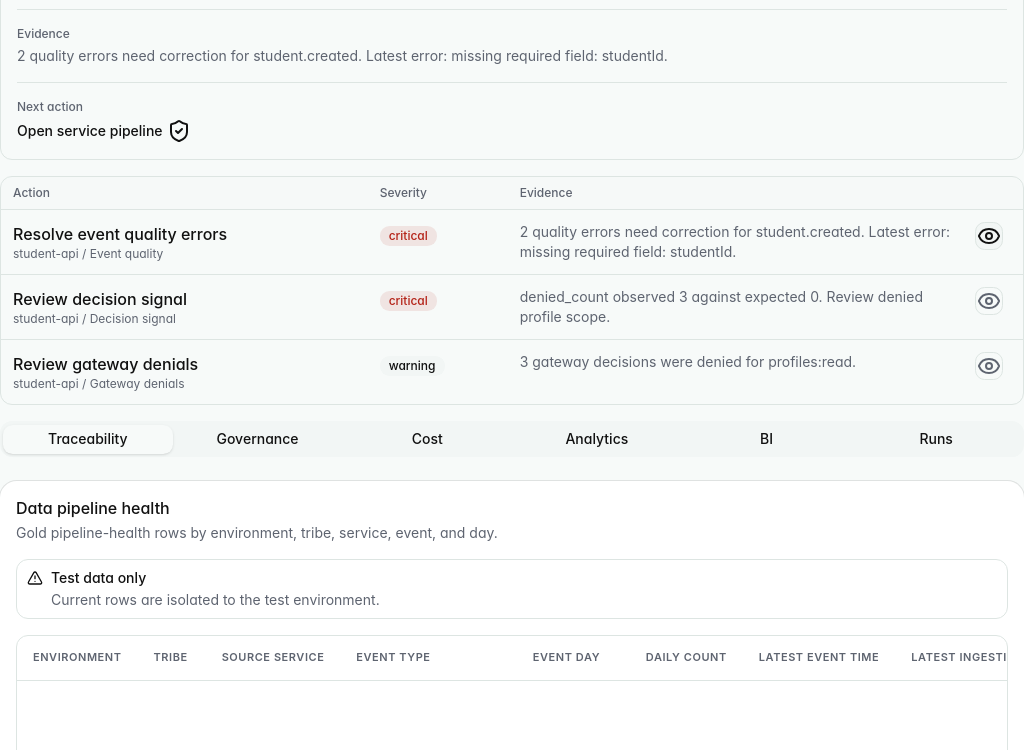
DataPipelineDashboardClient › surfaces severity-first pipeline action detail before the source tabs
The width and height of the screenshot is (1024, 750).
(page scrolled)
Expected: the element named "Selected pipeline action detail" shows "2 quality errors need correction", [17,47,668,64]
Expected: the element named "Selected pipeline action detail" shows "missing required field: studentId", [17,47,668,64]
Step 1. Click the button named "Inspect pipeline action Gateway denials" → (989, 366), box [975,352,1003,380]
(page scrolled)
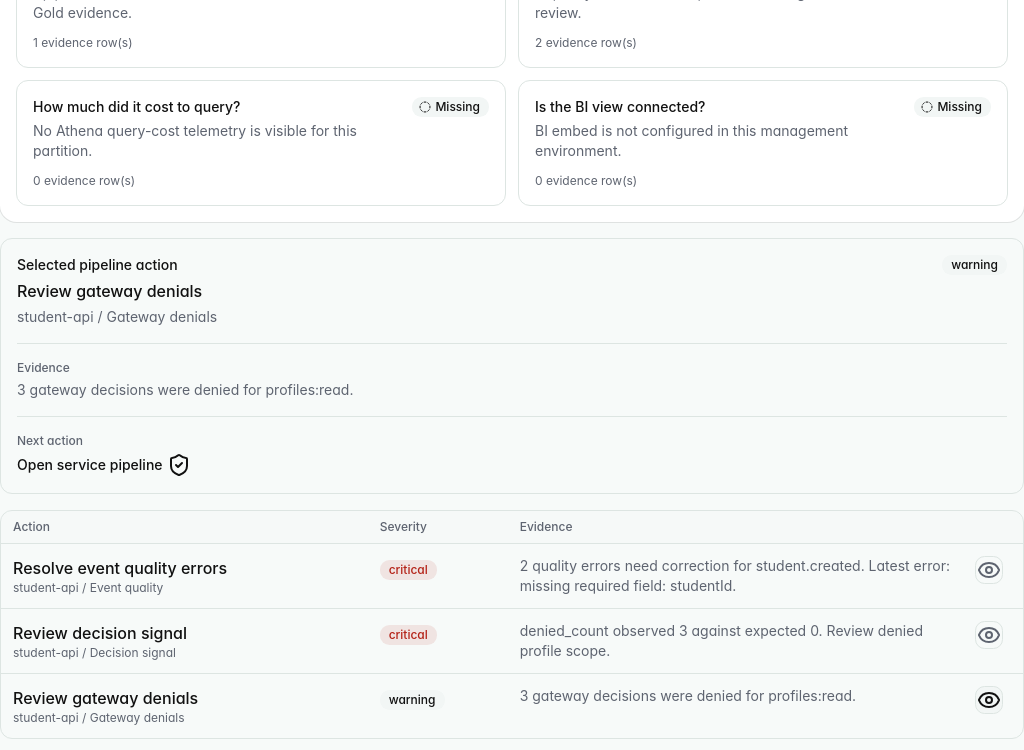
Expected: the element named "Selected pipeline action detail" shows "3 gateway decisions were denied", [17,381,354,398]
